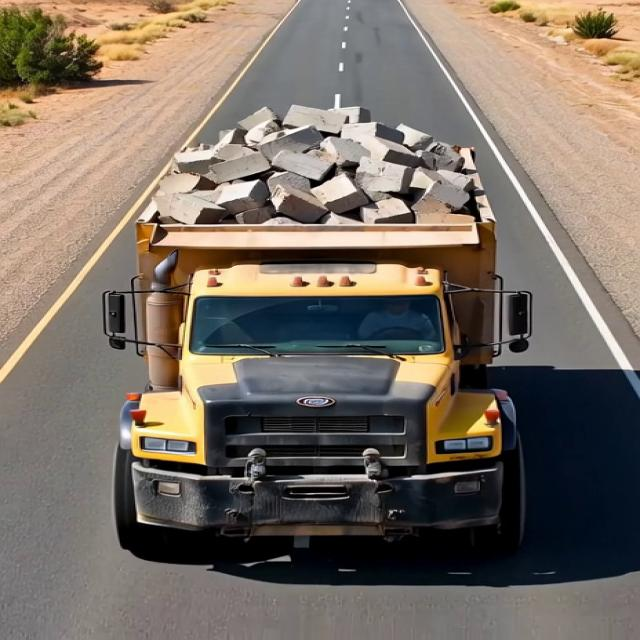Box: (127, 106, 526, 247)
Truck: (103, 85, 562, 548)
